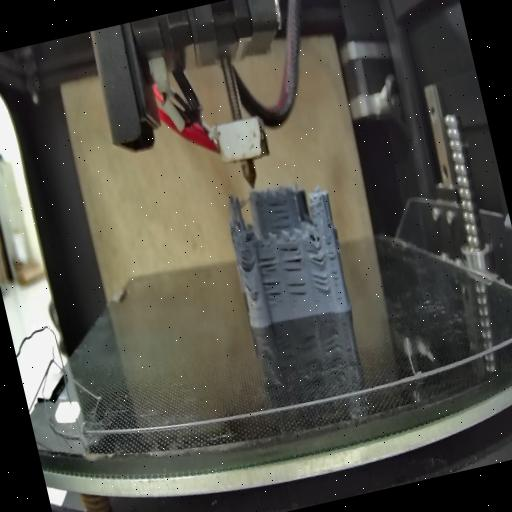cracks: (323, 240, 346, 302), (262, 198, 294, 236), (277, 242, 306, 276), (284, 274, 310, 302), (304, 242, 328, 272), (263, 276, 286, 304), (256, 251, 280, 276), (310, 272, 331, 298), (234, 252, 254, 276), (240, 282, 256, 302), (325, 216, 332, 232)
